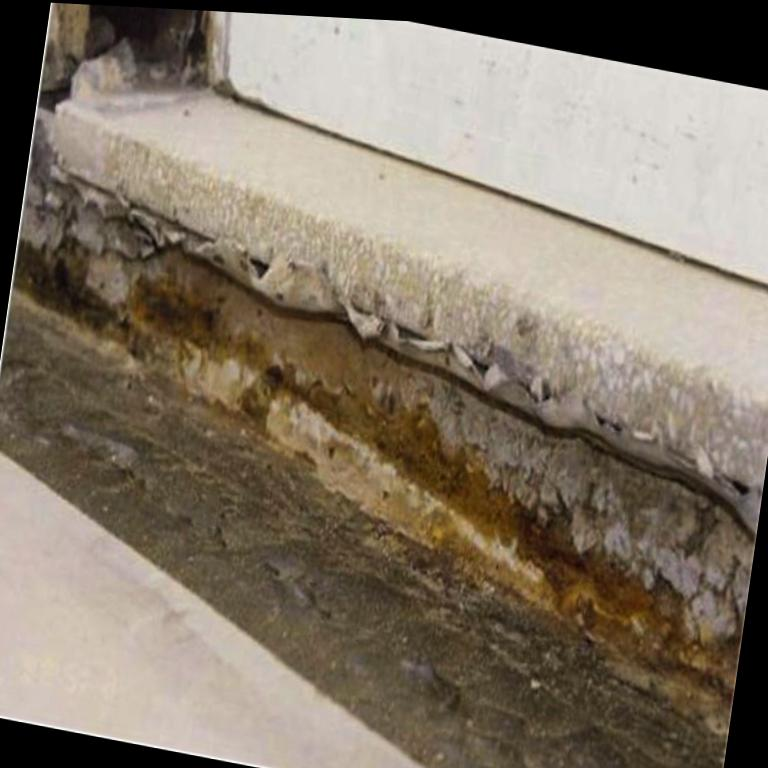spalling: (19, 121, 757, 729)
